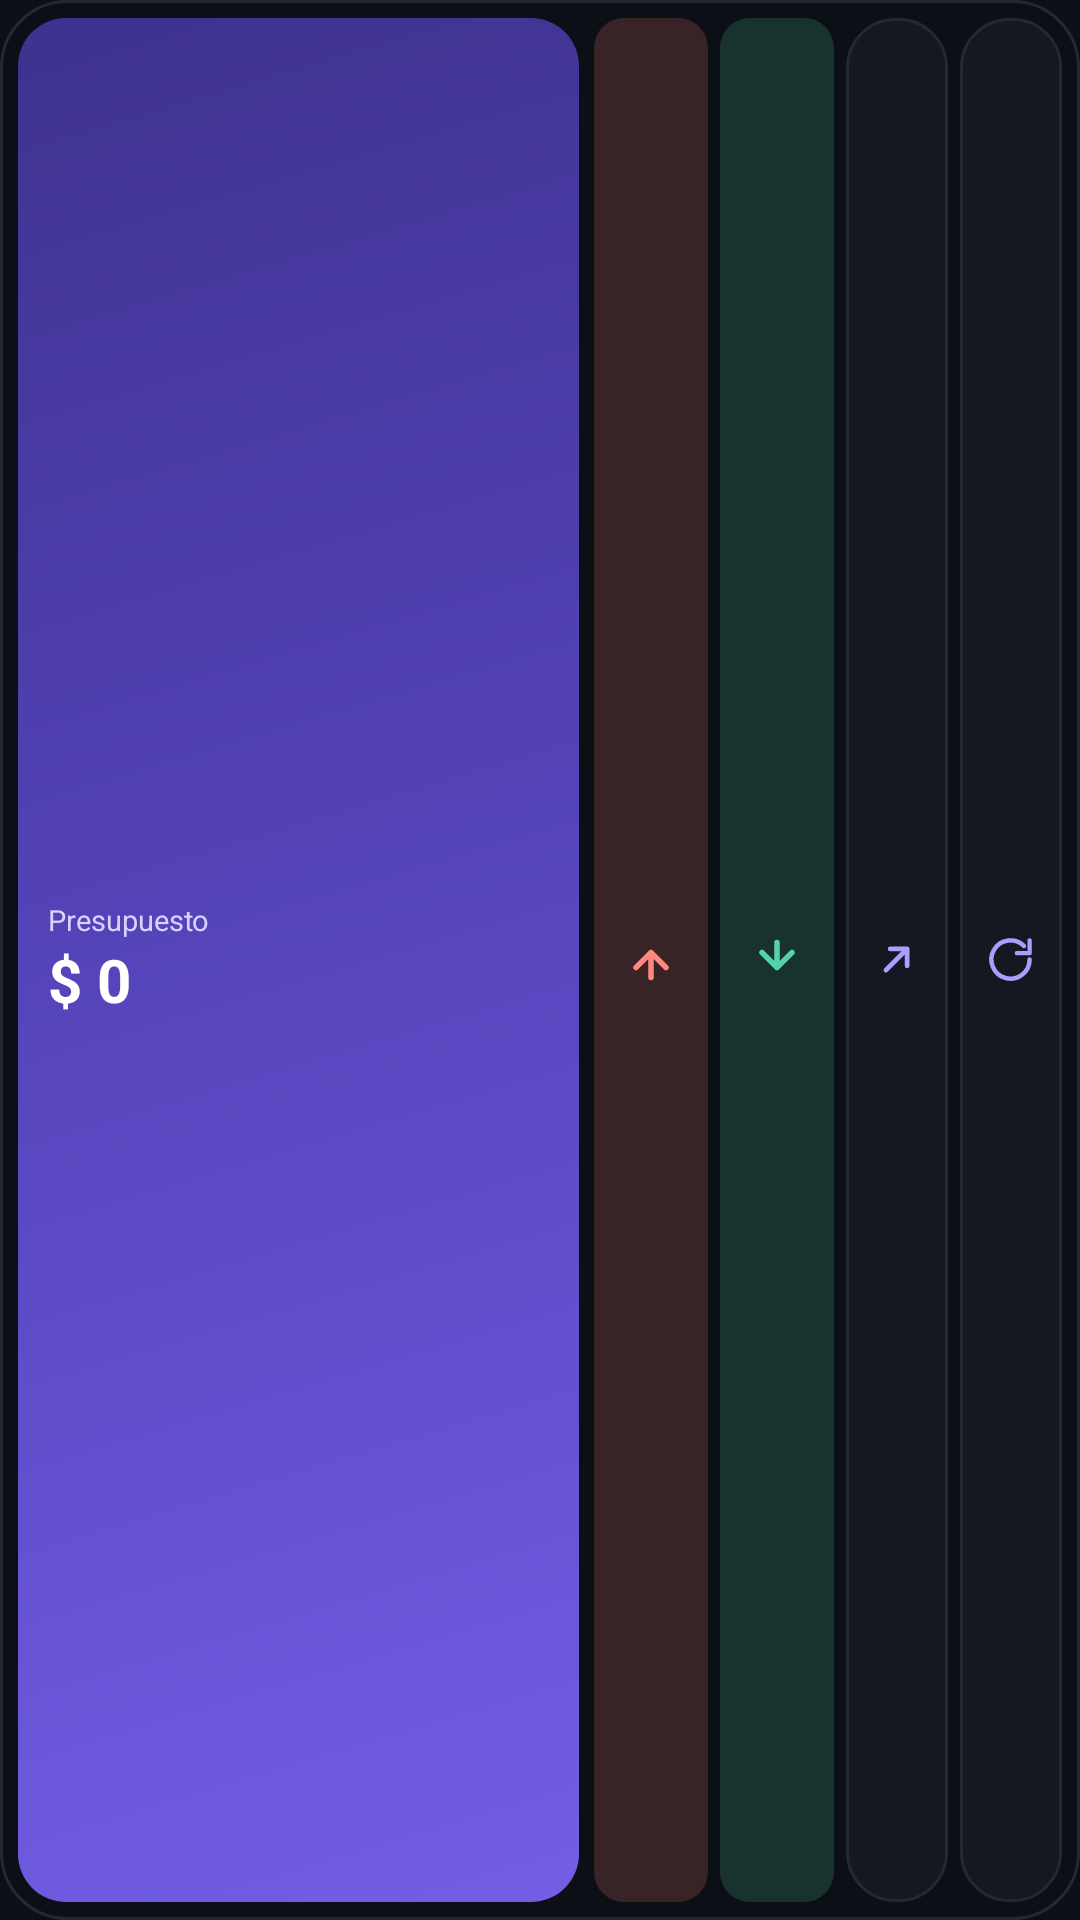

Icon bounding boxes for this 1080px×1920px phone screenshot, format (x1, y1, x2, y2):
Actualizar saldo: (989, 938, 1032, 981)
Gasto rápido: (633, 949, 669, 981)
Ingreso rápido: (759, 939, 795, 971)
Ver presupuesto: (883, 946, 910, 973)
